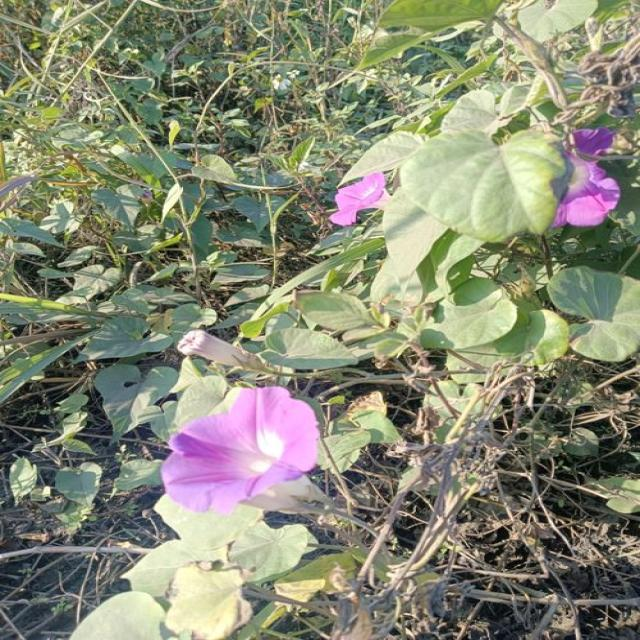ipomoea: (156, 384, 325, 518), (546, 124, 624, 232), (324, 168, 394, 230)
